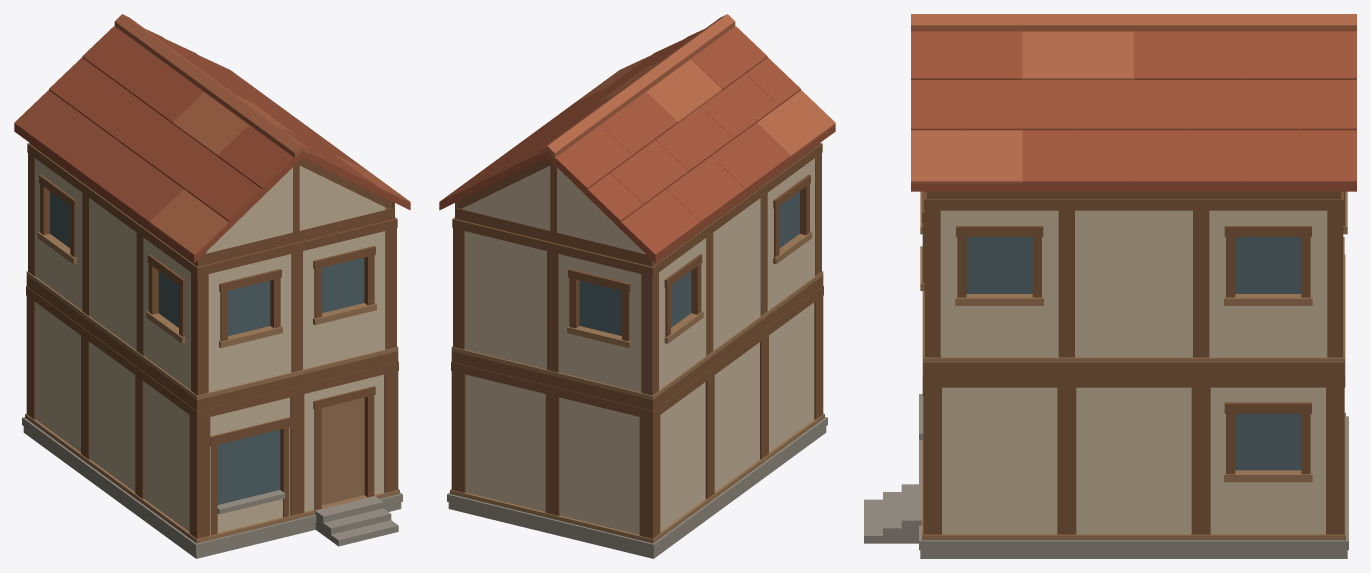
The picture shows the model from 3 angles, left to right: view 1: azimuth 30°, elevation 25°; view 2: azimuth 150°, elevation 25°; view 3: azimuth 270°, elevation 25°; orthographic projection. The views are drawn at different scales.
Visible parts, largest first — view 1: Foundation_Entry_Union, Infill_S2_front_Shell00, Infill_S2_front_Shell01, Infill_S2_left_Shell01, Infill_S1_left_Shell01, Infill_S1_left_Shell02, Infill_S1_left_Shell00, Entry_FixedPanel, display_front_FixedGlazing, Roof_RidgeCap, Infill_S2_left_Shell00, Infill_S2_left_Shell02 (+60 smaller); view 2: Infill_S2_rear_Shell01, Infill_S1_rear_Shell00, Infill_S1_rear_Shell01, Infill_S2_rear_Shell00, Foundation_Entry_Union, Infill_S2_left_Shell01, Infill_S1_left_Shell00, Infill_S1_left_Shell01, Infill_S1_left_Shell02, Roof_RidgeCap, Infill_S2_left_Shell02, Infill_S2_left_Shell00 (+46 smaller); view 3: Infill_S2_right_Shell01, Infill_S1_right_Shell01, Infill_S1_right_Shell00, Foundation_Entry_Union, Infill_S2_right_Shell00, Infill_S2_right_Shell02, Infill_S1_right_Shell02, Roof_RidgeCap, Clay_R_2_0, Clay_R_2_1, Clay_R_2_2, Clay_R_2_3 (+39 smaller).
Part boxes in pixels (left/top/right/bottom): Foundation_Entry_Union: left=22, top=417, right=402, bottom=558; Infill_S2_front_Shell00: left=208, top=254, right=291, bottom=392; Infill_S2_front_Shell01: left=303, top=231, right=385, bottom=369; Infill_S2_left_Shell01: left=89, top=198, right=136, bottom=350; Infill_S1_left_Shell01: left=90, top=342, right=135, bottom=491; Infill_S1_left_Shell02: left=35, top=302, right=80, bottom=452; Infill_S1_left_Shell00: left=144, top=382, right=189, bottom=531; Entry_FixedPanel: left=321, top=397, right=364, bottom=505; display_front_FixedGlazing: left=217, top=429, right=280, bottom=504; Roof_RidgeCap: left=114, top=14, right=310, bottom=157; Infill_S2_left_Shell00: left=143, top=238, right=190, bottom=389; Infill_S2_left_Shell02: left=35, top=158, right=82, bottom=310; Infill_S2_rear_Shell01: left=464, top=231, right=546, bottom=369; Infill_S1_rear_Shell00: left=559, top=397, right=639, bottom=534; Infill_S1_rear_Shell01: left=465, top=374, right=545, bottom=511; Infill_S2_rear_Shell00: left=558, top=254, right=641, bottom=392; Foundation_Entry_Union: left=447, top=417, right=827, bottom=558; Infill_S2_left_Shell01: left=713, top=198, right=760, bottom=350; Infill_S1_left_Shell00: left=769, top=302, right=814, bottom=452; Infill_S1_left_Shell01: left=714, top=342, right=759, bottom=491; Infill_S1_left_Shell02: left=660, top=382, right=705, bottom=531; Roof_RidgeCap: left=539, top=14, right=735, bottom=157; Infill_S2_left_Shell02: left=659, top=238, right=706, bottom=389; Infill_S2_left_Shell00: left=767, top=158, right=814, bottom=310; Infill_S2_right_Shell01: left=1075, top=210, right=1192, bottom=357; Infill_S1_right_Shell01: left=1076, top=387, right=1191, bottom=533; Infill_S1_right_Shell00: left=942, top=387, right=1057, bottom=533; Foundation_Entry_Union: left=864, top=416, right=1348, bottom=558; Infill_S2_right_Shell00: left=940, top=210, right=1058, bottom=357; Infill_S2_right_Shell02: left=1209, top=210, right=1327, bottom=357; Infill_S1_right_Shell02: left=1210, top=387, right=1325, bottom=533; Roof_RidgeCap: left=911, top=14, right=1356, bottom=31; Clay_R_2_0: left=911, top=130, right=1022, bottom=183; Clay_R_2_1: left=1022, top=130, right=1133, bottom=183; Clay_R_2_2: left=1134, top=130, right=1245, bottom=183; Clay_R_2_3: left=1245, top=130, right=1356, bottom=183.
Bounding box in the file's own units: 4.6 × 7.94 × 7.34.
